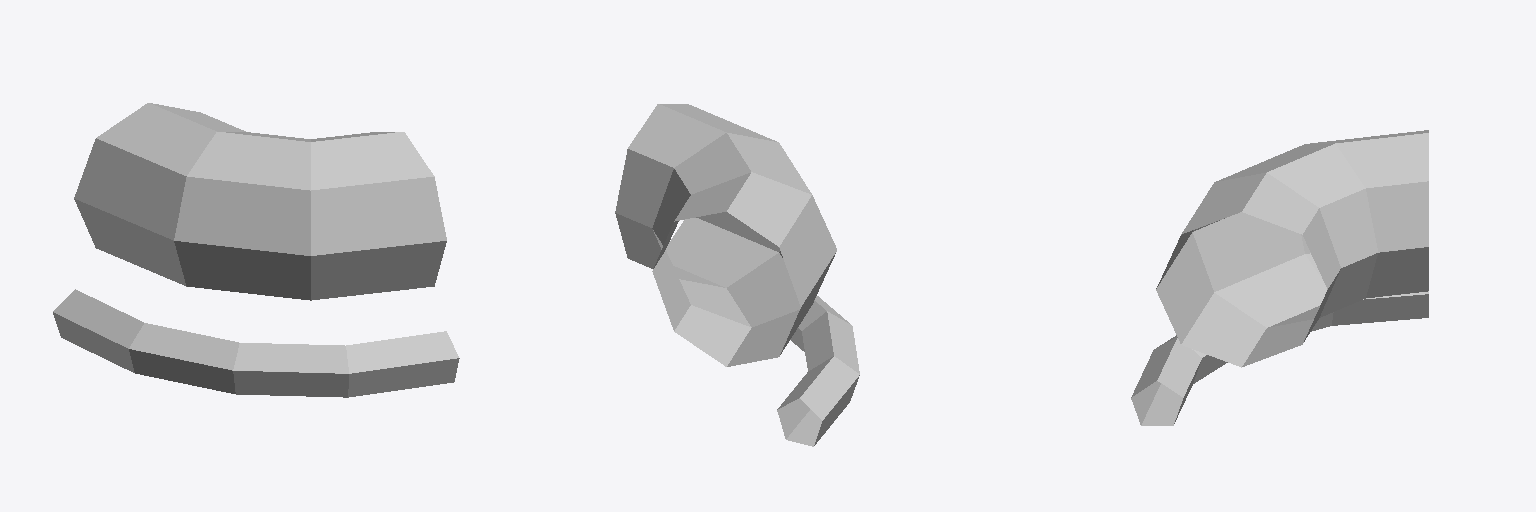
The model's file is Pipes_Connector_1.obj.
3 views of the same model, side by side, from view 1: azimuth 30°, elevation 25°; view 2: azimuth 150°, elevation 25°; view 3: azimuth 270°, elevation 25° (orthographic).
Visible parts, largest first — view 1: Pipes_horizontal_turn_2; view 2: Pipes_horizontal_turn_2; view 3: Pipes_horizontal_turn_2.
Boxes of the visible parts, x1=… form: Pipes_horizontal_turn_2: x1=53, y1=103, x2=459, y2=397; Pipes_horizontal_turn_2: x1=615, y1=104, x2=859, y2=446; Pipes_horizontal_turn_2: x1=1131, y1=130, x2=1428, y2=425.
Size of the model in its own units: 1.2 by 0.9533 by 1.2.